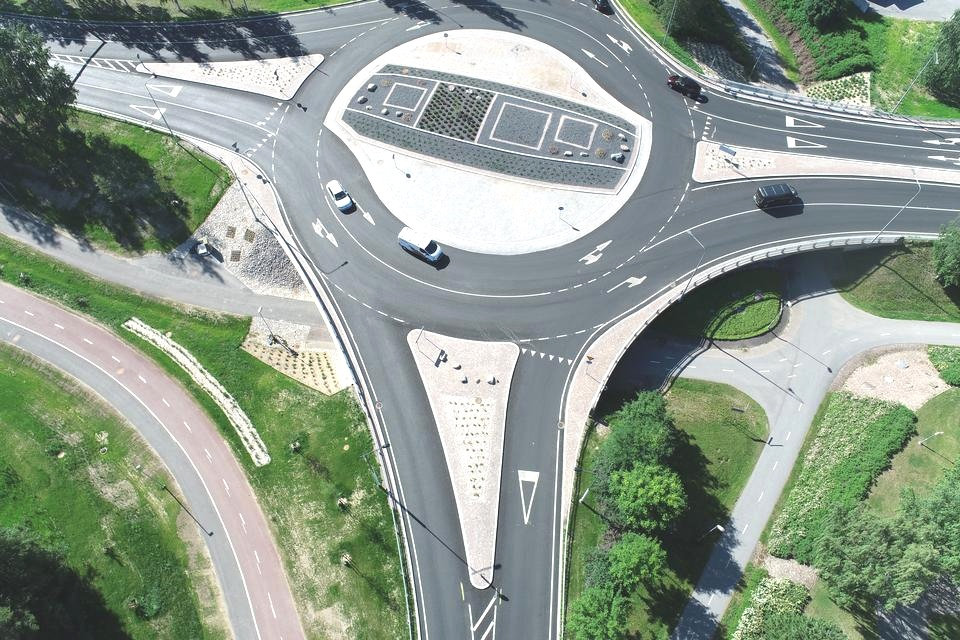roundabout: (222, 0, 752, 495)
